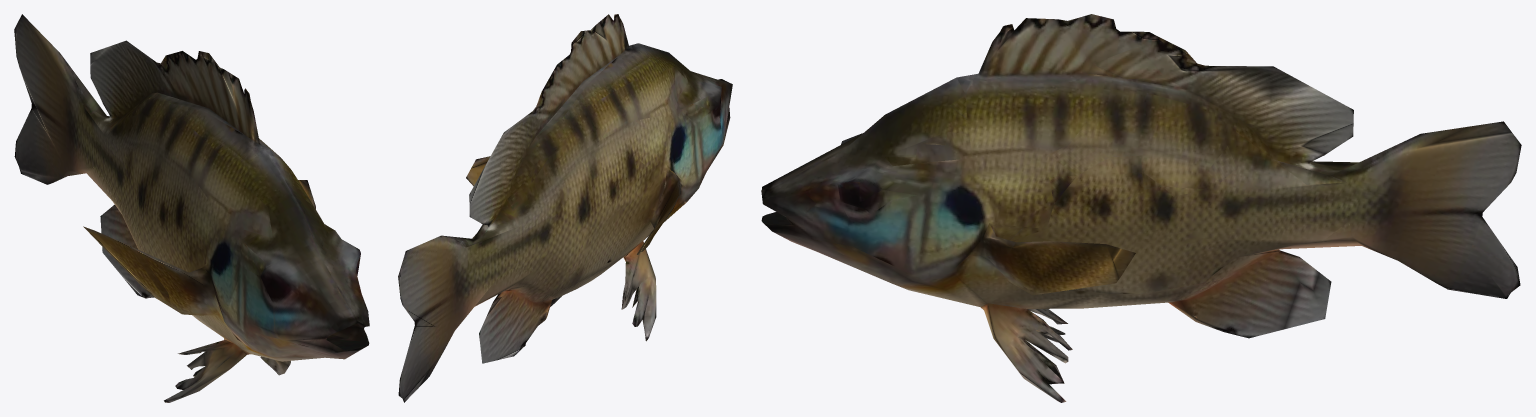
Rendered from bluegill_lo.glb.
3 views of the same model, side by side, from view 1: azimuth 30°, elevation 25°; view 2: azimuth 150°, elevation 25°; view 3: azimuth 270°, elevation 25° (orthographic). The views are drawn at different scales.
Parts seen in each view (by area): view 1: geometry_0; view 2: geometry_0; view 3: geometry_0.
Boxes of the visible parts, x1,y1,x2,y2 form: geometry_0: [14, 14, 369, 402]; geometry_0: [398, 14, 732, 402]; geometry_0: [761, 14, 1521, 402].
Bounding box in the file's own units: 0.3588 × 0.5222 × 1.
1 material, 1 textured.
